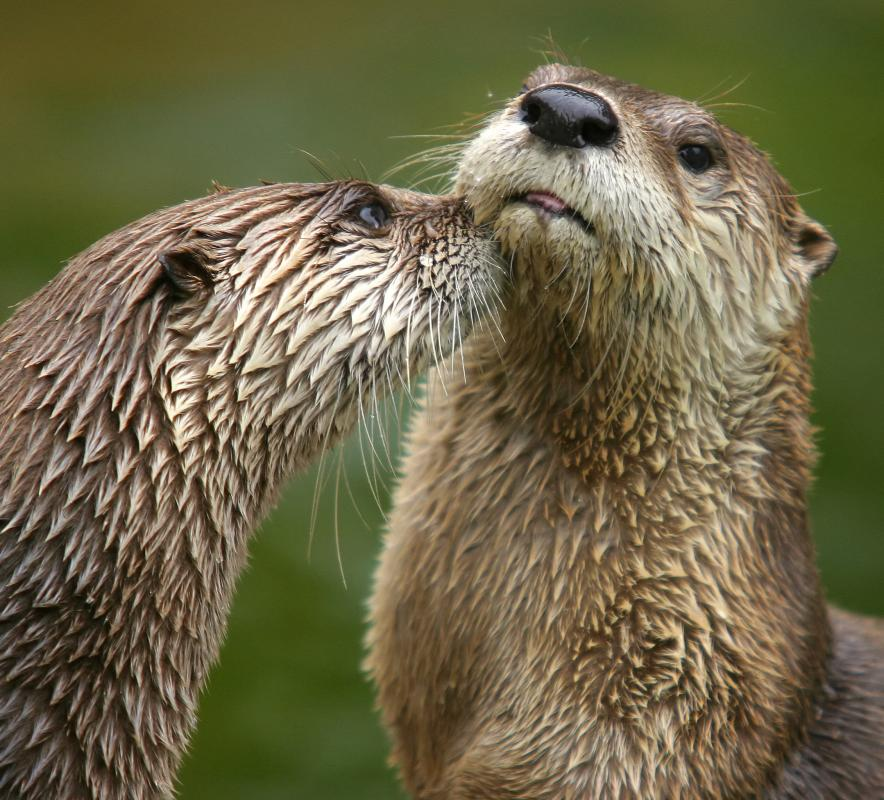otter: (427, 53, 884, 783), (53, 153, 525, 495)
